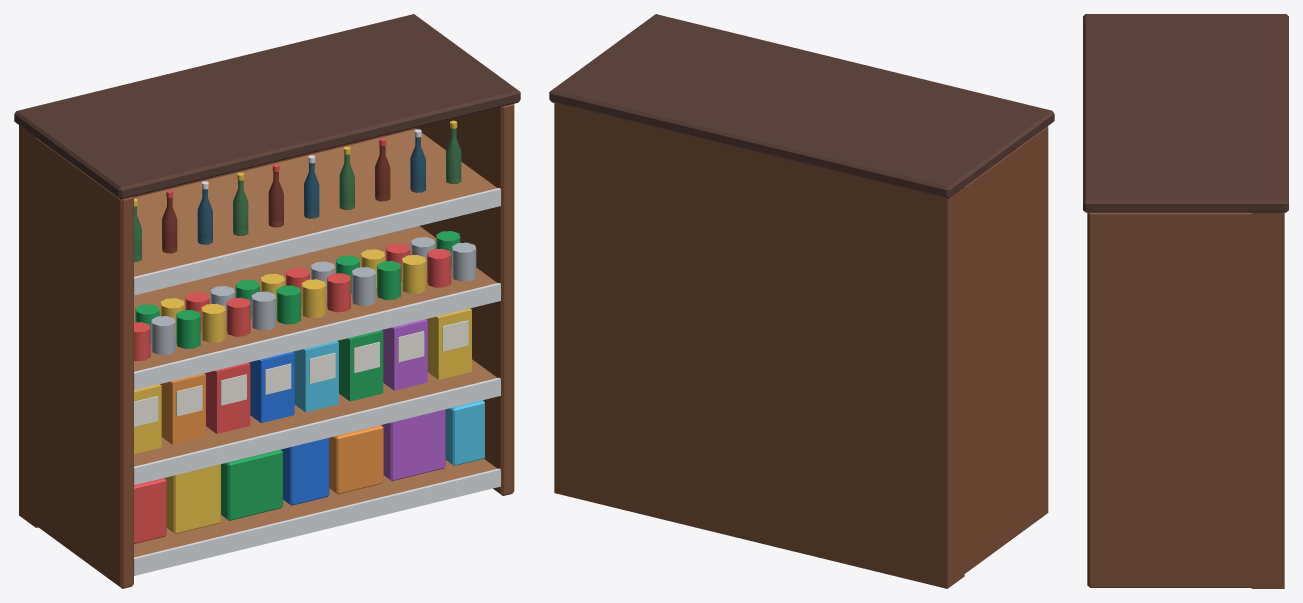
File: shelf.glb
3 views of the same model, side by side, from view 1: azimuth 30°, elevation 25°; view 2: azimuth 150°, elevation 25°; view 3: azimuth 270°, elevation 25° (orthographic). The views are drawn at different scales.
Visible parts, largest first — view 1: shelf; view 2: shelf; view 3: shelf.
Part boxes in pixels (x1,y1,x2,y2): shelf: (14,14,520,588); shelf: (549,14,1054,588); shelf: (1083,14,1288,588).
Size of the model in its own units: 2.04 by 1.96 by 0.94.
